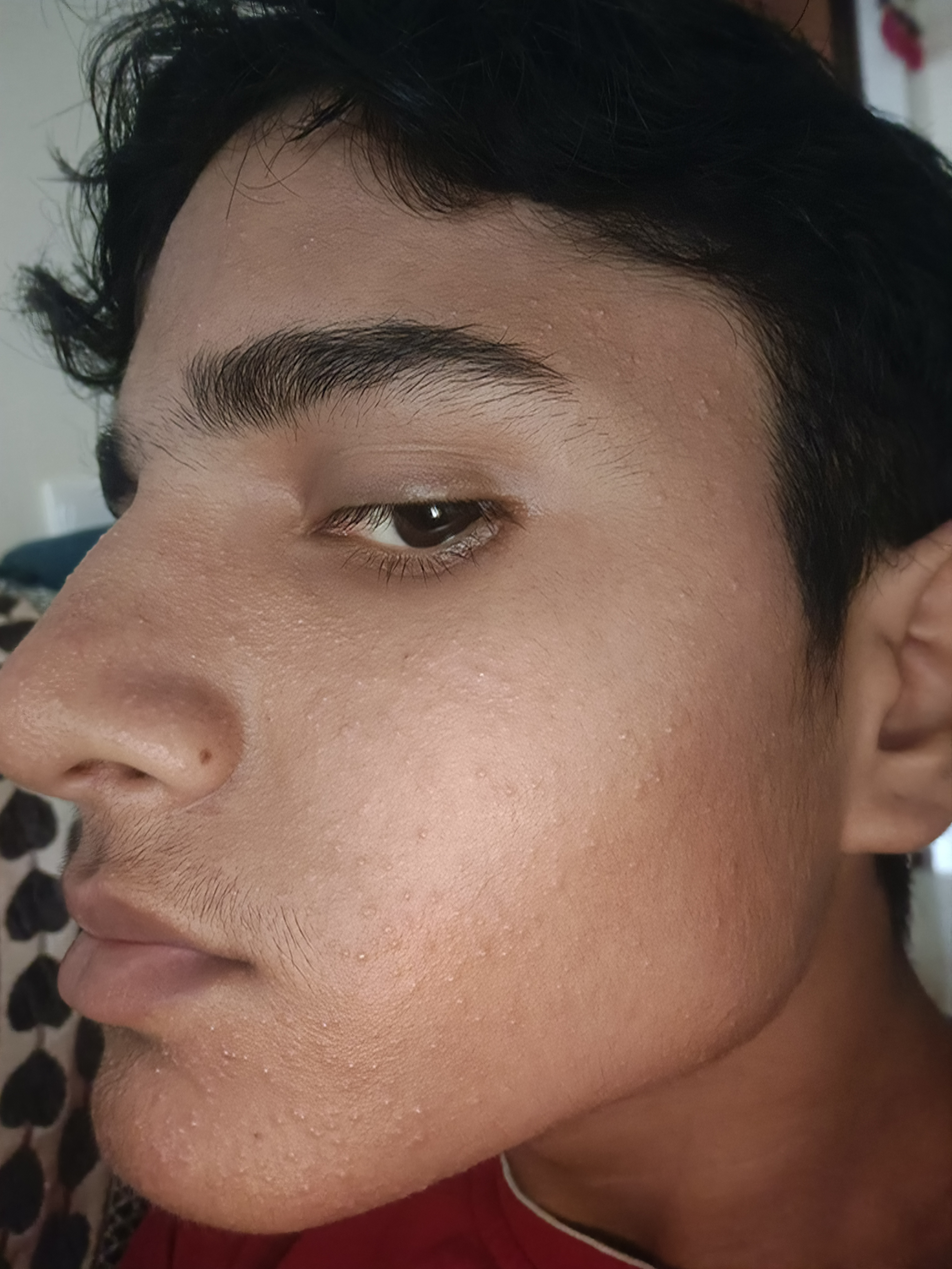closed_comedone: (629, 768, 663, 812), (398, 1118, 439, 1151), (652, 707, 688, 742), (331, 944, 379, 968), (694, 388, 720, 432), (474, 944, 511, 966), (472, 763, 492, 783), (499, 783, 523, 799)
